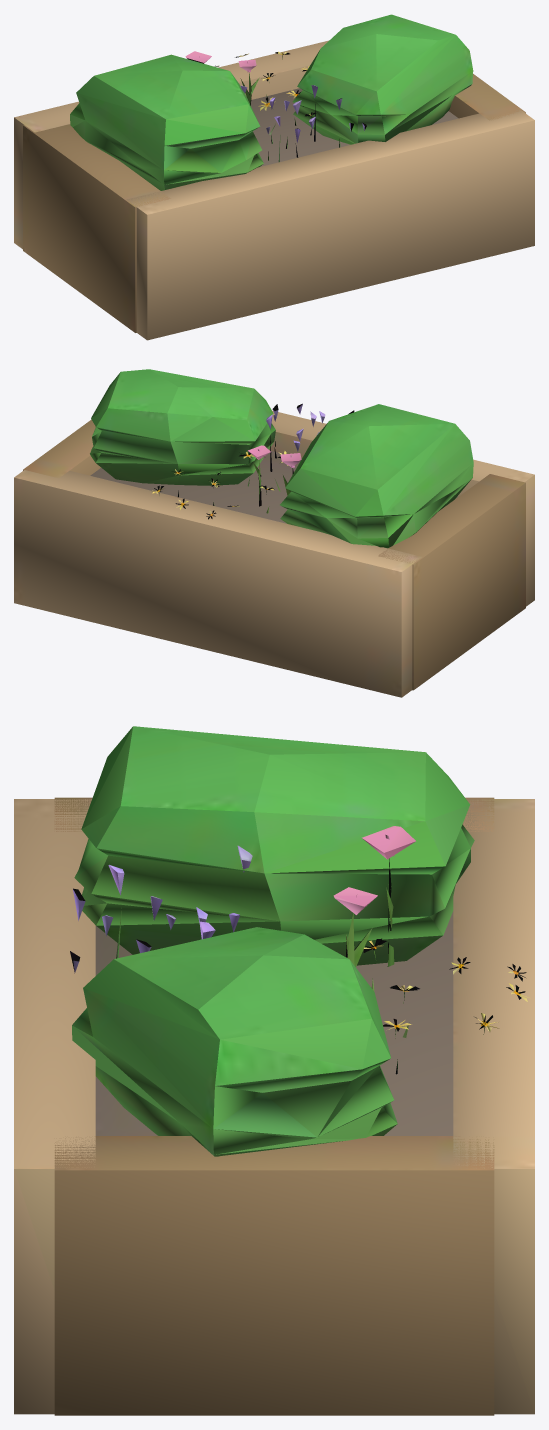
Rendered from plaza_planter_filled_low.glb.
3 renders of one model, top to bottom at view 1: azimuth 30°, elevation 25°; view 2: azimuth 150°, elevation 25°; view 3: azimuth 270°, elevation 25°, orthographic. The views are drawn at different scales.
Visible parts, largest first — view 1: plaza_planter_filled; view 2: plaza_planter_filled; view 3: plaza_planter_filled.
Boxes of the visible parts, bbox=[...] form: plaza_planter_filled: bbox=[14, 14, 534, 340]; plaza_planter_filled: bbox=[14, 369, 534, 697]; plaza_planter_filled: bbox=[14, 726, 534, 1415].
Bounding box in the file's own units: 1.76 × 0.85 × 1.04.
1 material, 1 textured.
